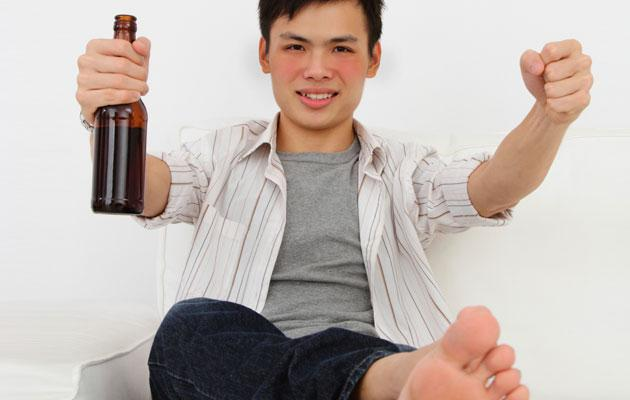Drunk: (274, 6, 367, 125)
